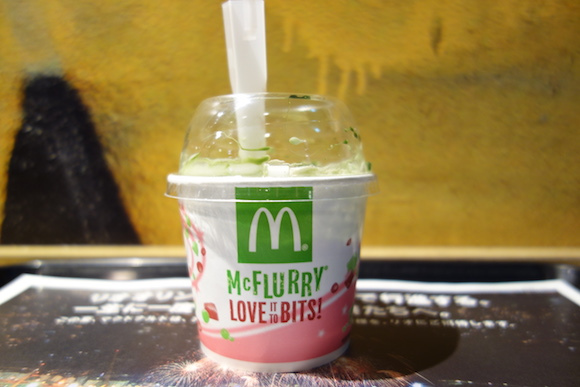mcdonalds: (245, 204, 304, 255)
